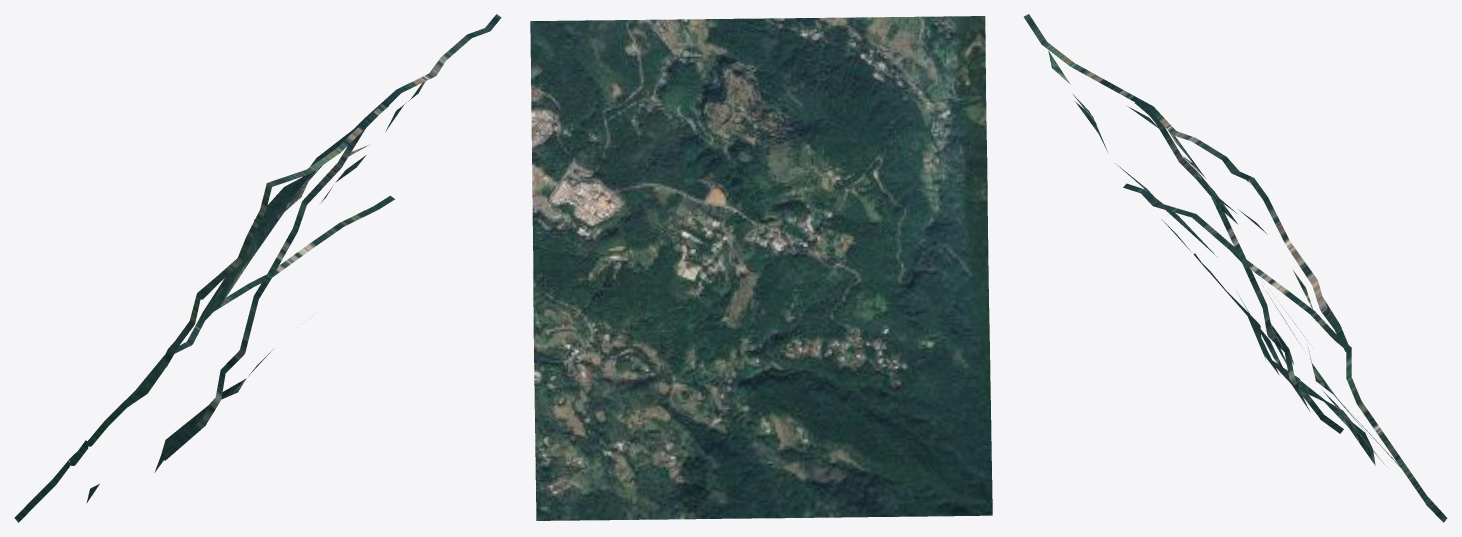
3 views of the same model, side by side, from view 1: azimuth 30°, elevation 25°; view 2: azimuth 150°, elevation 25°; view 3: azimuth 270°, elevation 25° (orthographic). The views are drawn at different scales.
Size of the model in its own units: 2633 by 2196 by 2125.
Materials: 1 (1 with a texture image).
